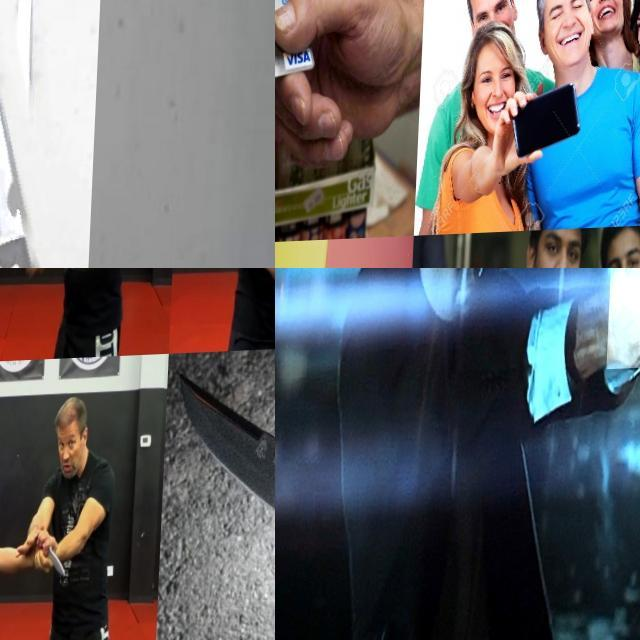-: (0, 0, 103, 268), (168, 359, 275, 579), (41, 529, 73, 581), (0, 283, 24, 328)
